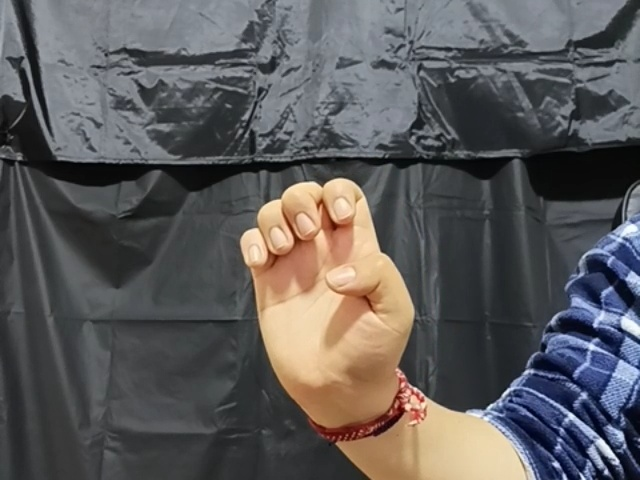E: (236, 174, 419, 419)
